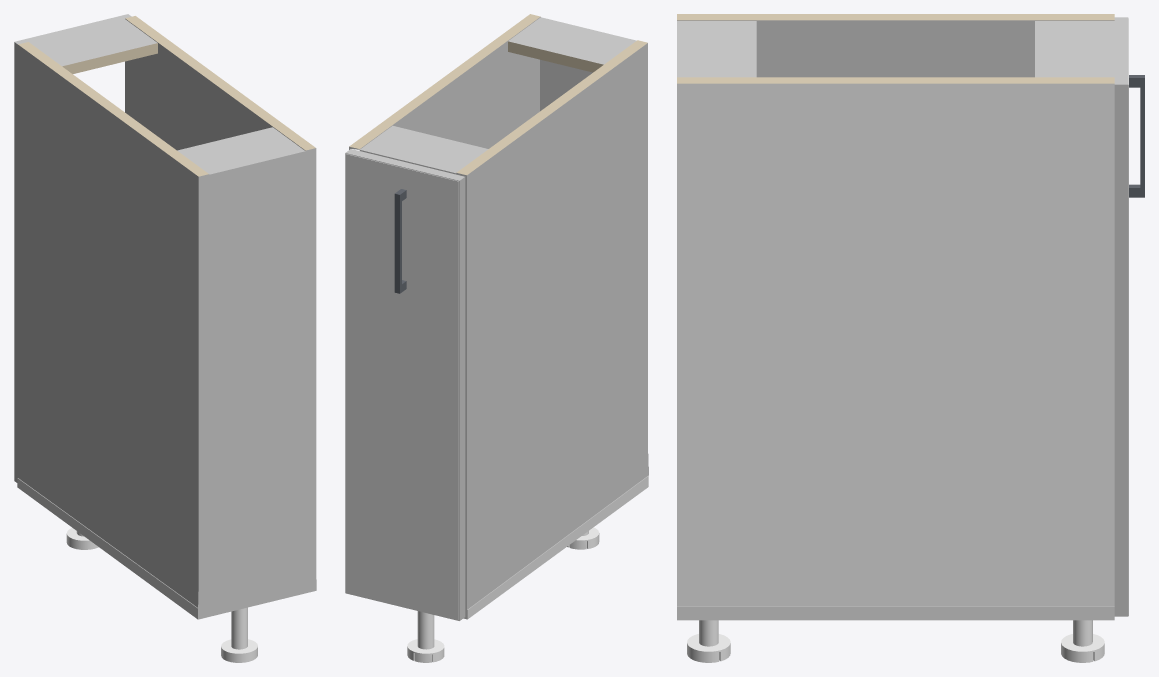
Rendered from fioke_flase_20cm.glb.
3 views of the same model, side by side, from view 1: azimuth 30°, elevation 25°; view 2: azimuth 150°, elevation 25°; view 3: azimuth 270°, elevation 25° (orthographic). The views are drawn at different scales.
Parts seen in each view (by area): view 1: Group1, Group2; view 2: Group1, Group2; view 3: Group1, Group2.
Part boxes in pixels (x1=…): Group1: x1=14, y1=14, x2=316, y2=619; Group2: x1=66, y1=527, x2=257, y2=662; Group1: x1=345, y1=14, x2=648, y2=620; Group2: x1=407, y1=527, x2=599, y2=662; Group1: x1=677, y1=14, x2=1144, y2=620; Group2: x1=687, y1=620, x2=1104, y2=662.
Size of the model in its own units: 202 by 815 by 569.
